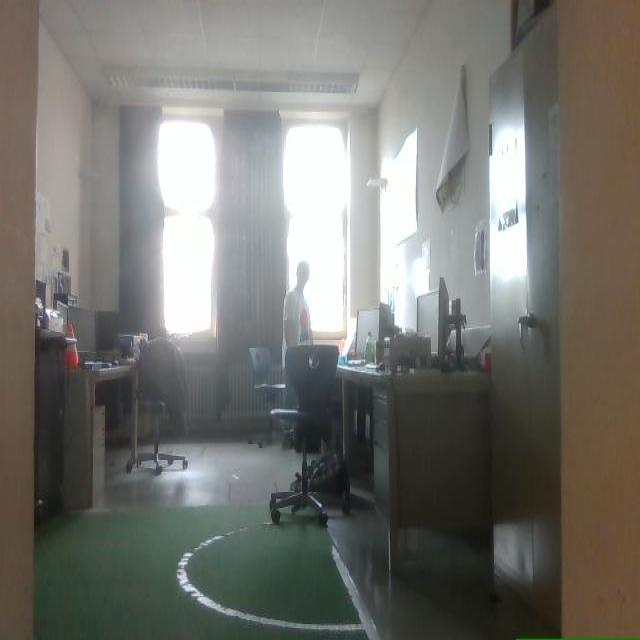humans: (282, 262, 312, 375), (283, 262, 312, 365)
objects: (270, 346, 337, 525), (126, 338, 187, 474), (34, 328, 66, 522), (138, 338, 186, 433), (308, 452, 349, 513), (249, 347, 285, 407), (249, 347, 285, 401)
